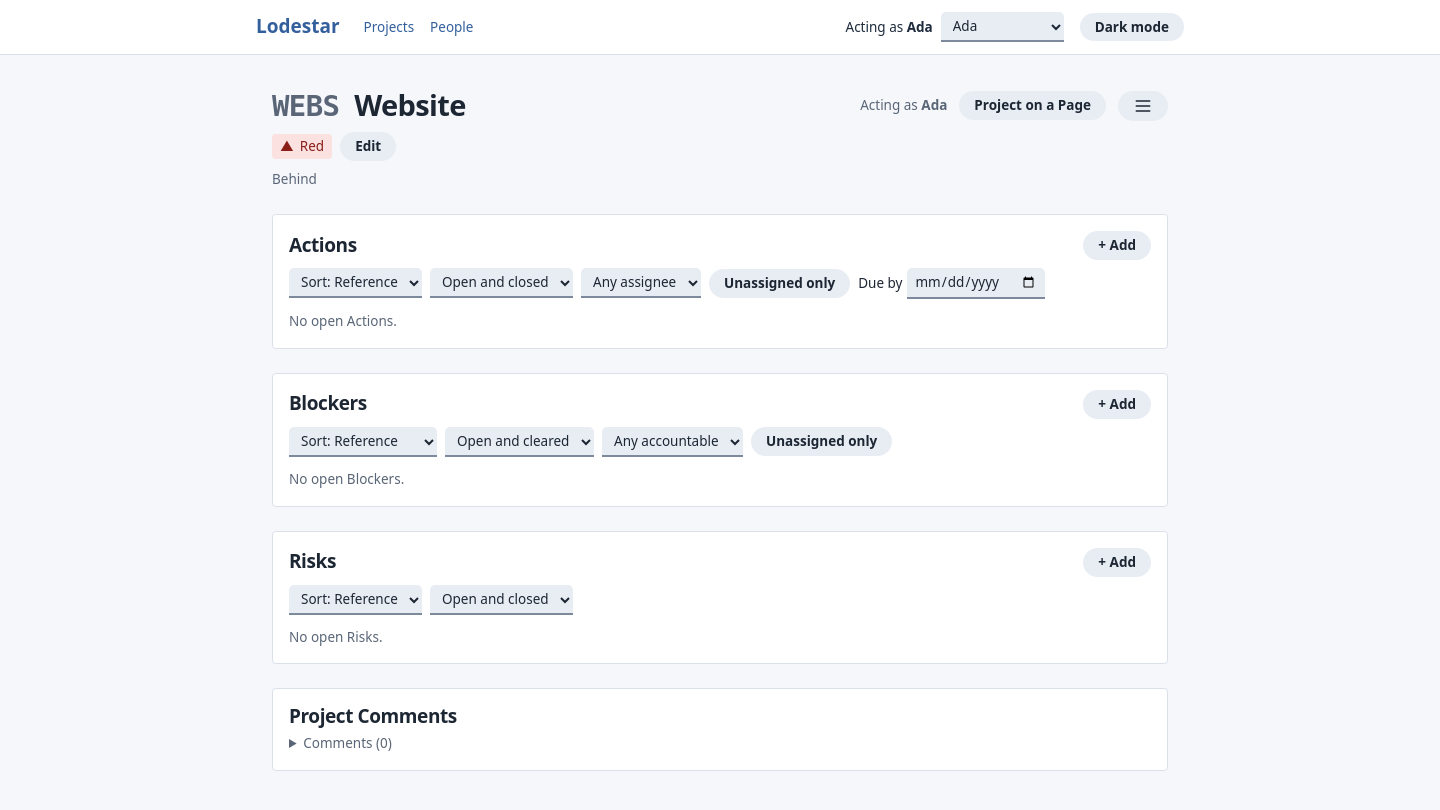
Test case: Health Rating in the meeting view header › can go back to not rated
Click the button with aria-label "Edit Health Rating" at (368, 147), box [340,132,396,161]
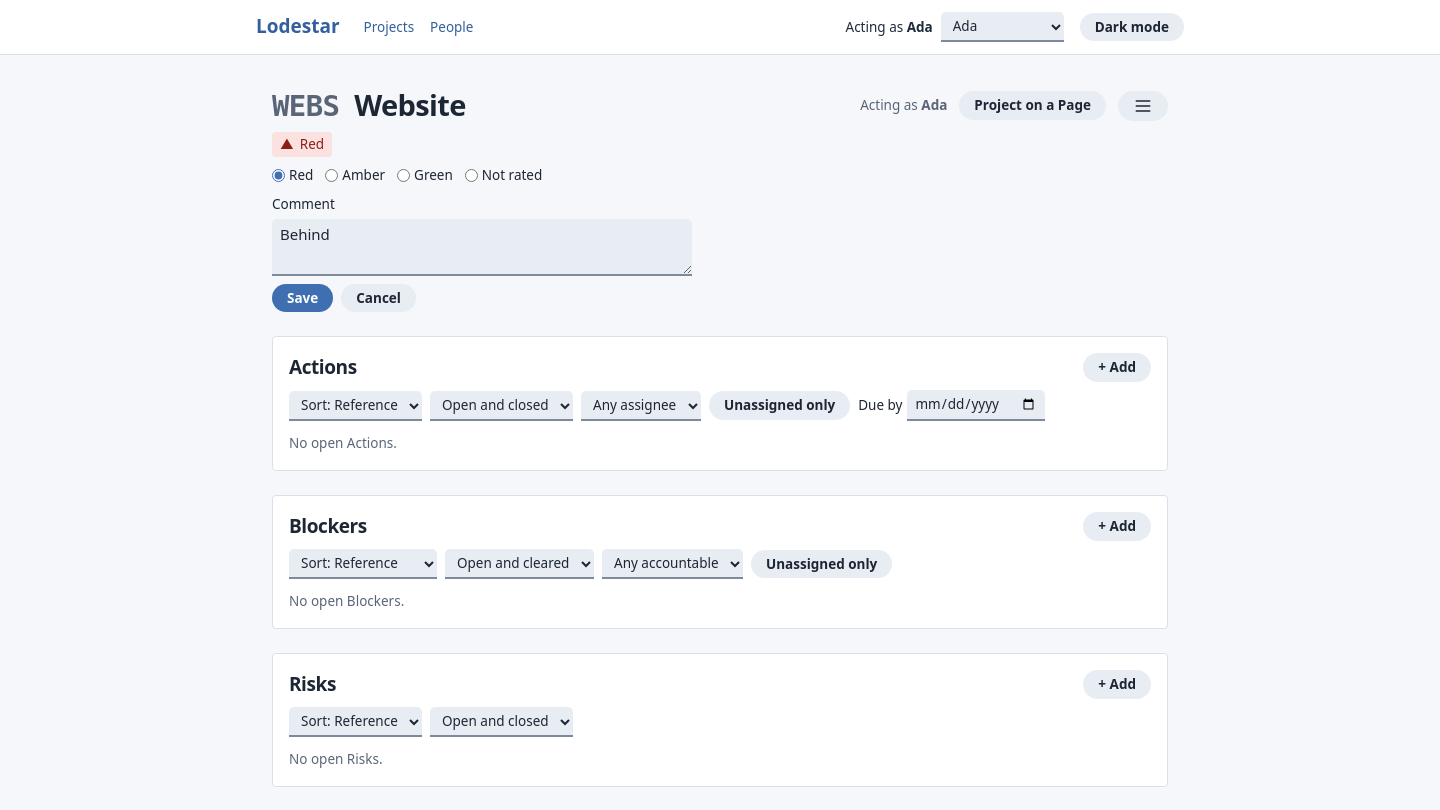
Click the radio button labelled "Not rated" at (471, 176), box [465,169,478,182]
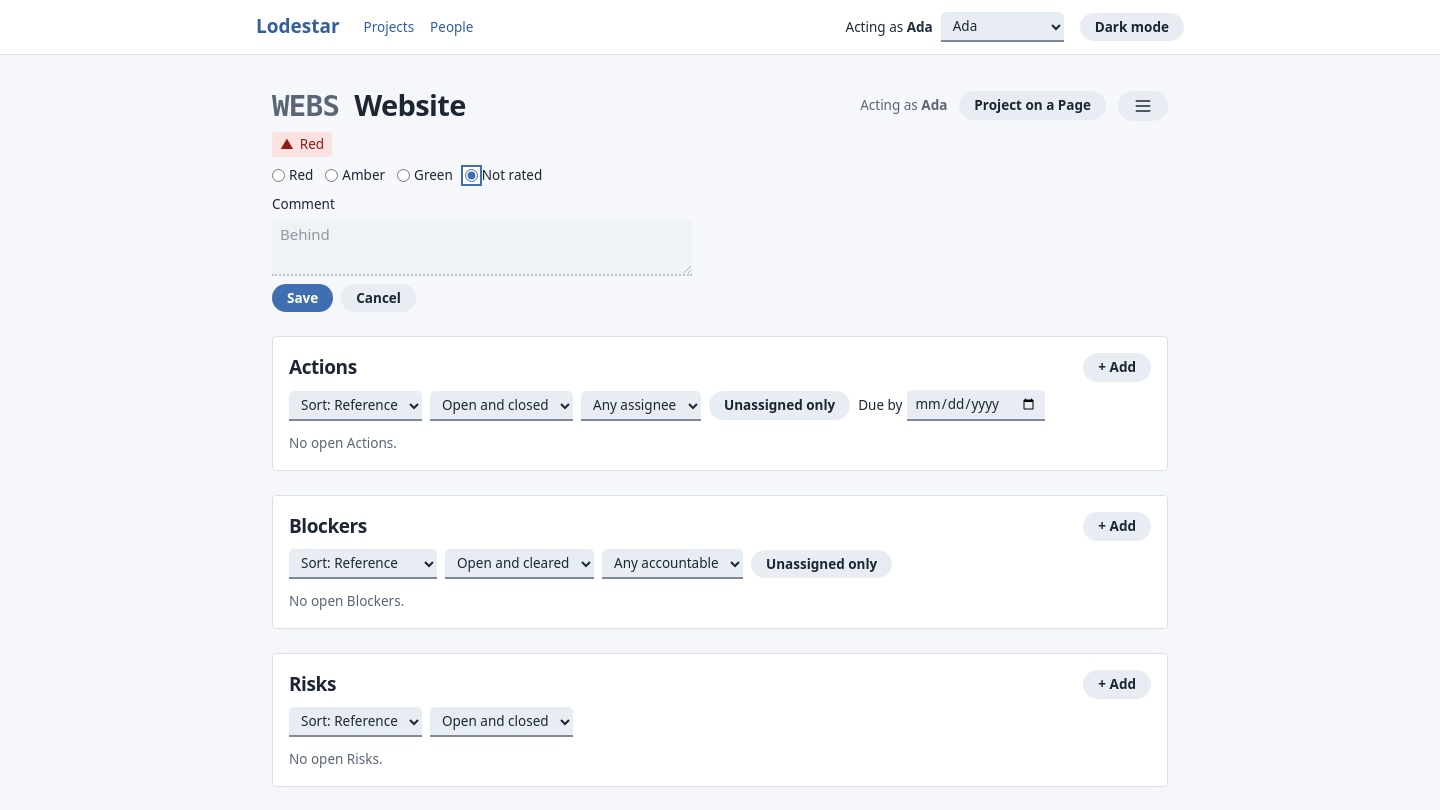
Click the button "Save" at (303, 298), box [272,284,333,312]
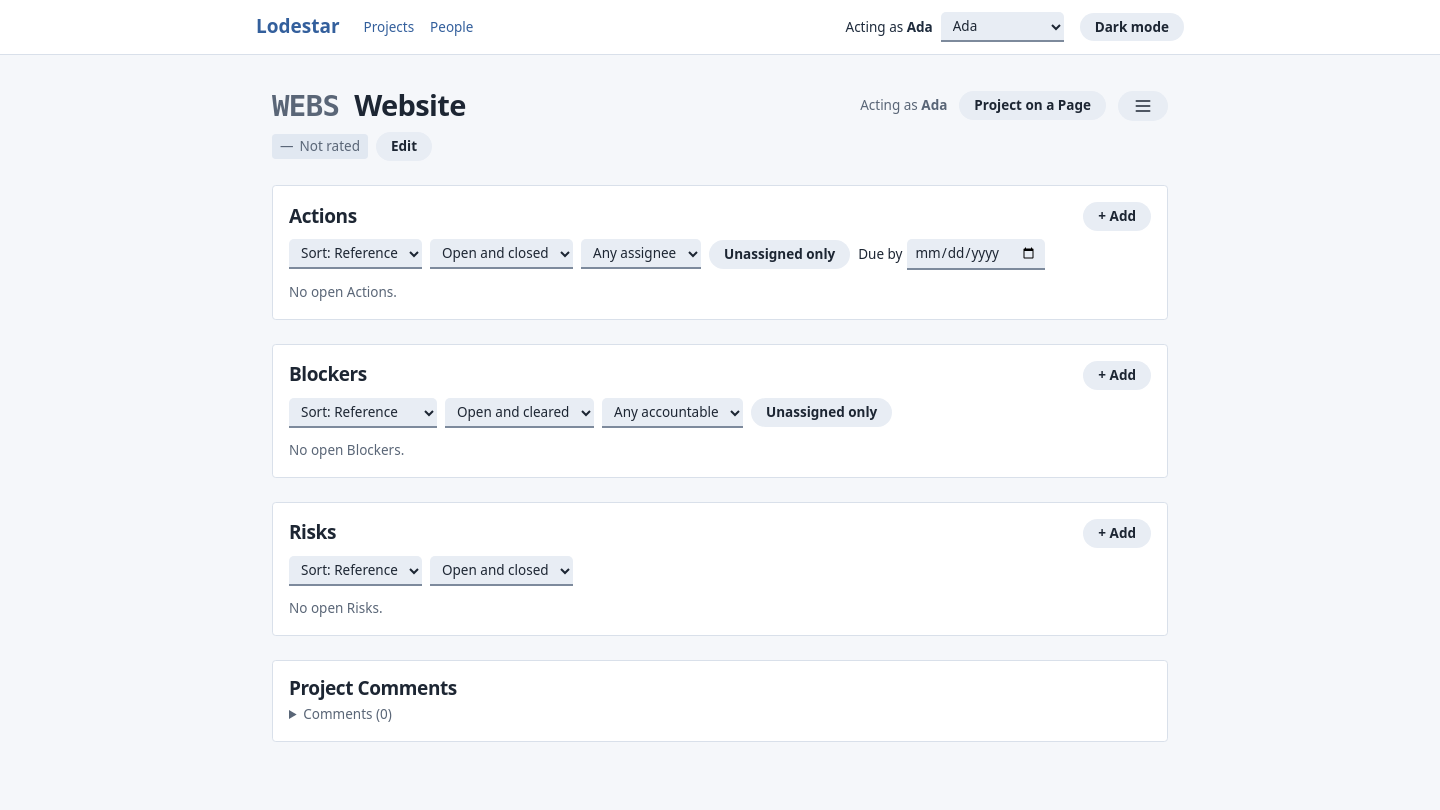
Now the message named "Health Rating" shows "Not rated", box [300,137,360,155]
